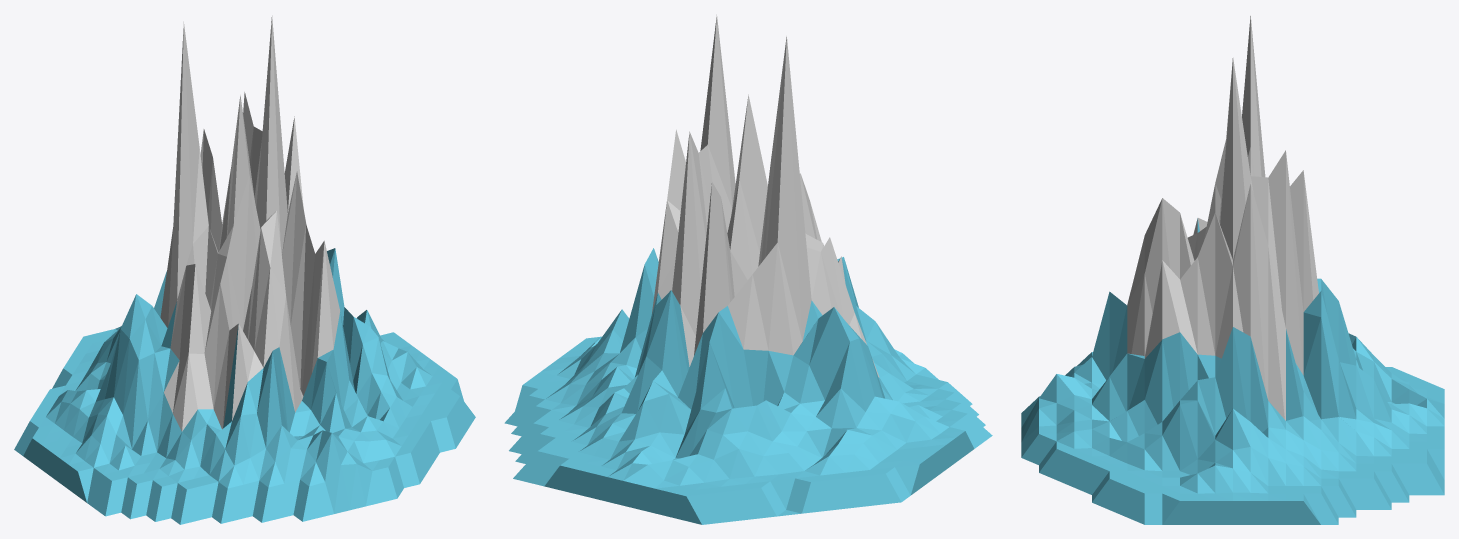
The model's file is IceMountain0.fbx.
3 renders of one model, left to right at view 1: azimuth 30°, elevation 25°; view 2: azimuth 150°, elevation 25°; view 3: azimuth 270°, elevation 25°, orthographic. The views are drawn at different scales.
Parts seen in each view (by area): view 1: Landscape.001; view 2: Landscape.001; view 3: Landscape.001.
Part boxes in pixels (x1=…): Landscape.001: x1=14, y1=15, x2=475, y2=524; Landscape.001: x1=504, y1=15, x2=992, y2=524; Landscape.001: x1=1021, y1=16, x2=1444, y2=524.
Bounding box in the file's own units: 1600 × 1665 × 1600.
